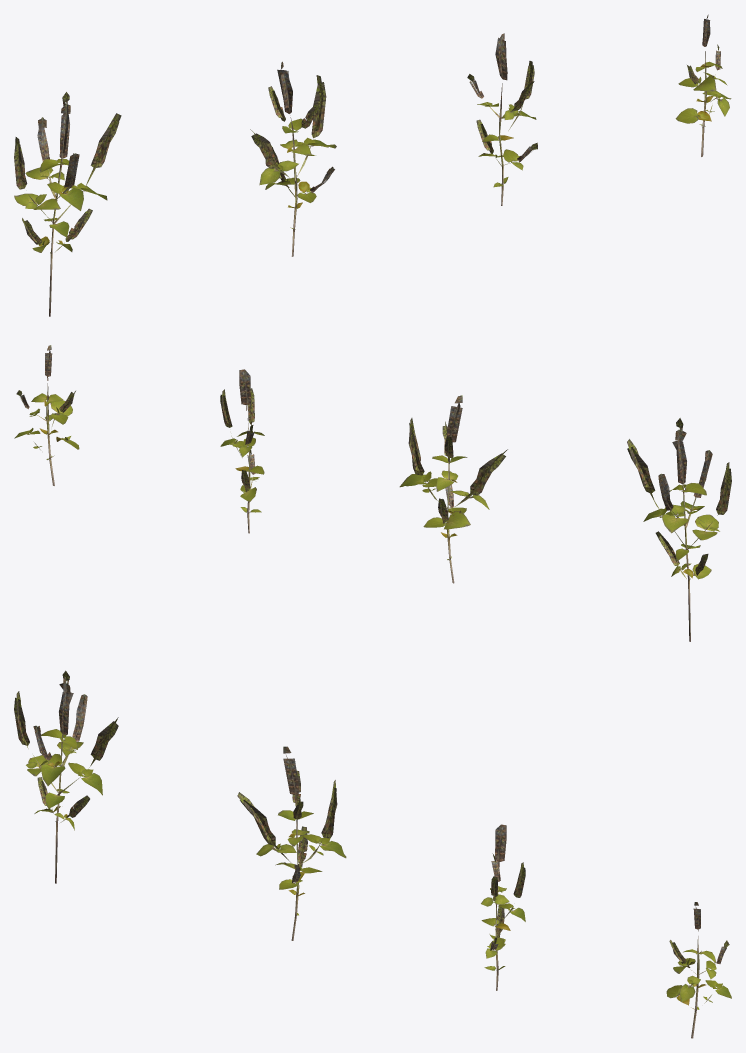
Rendered from veg_veg_mangrove_shrub_03.glb.
3 views of the same model, one above another, from view 1: azimuth 30°, elevation 25°; view 2: azimuth 150°, elevation 25°; view 3: azimuth 330°, elevation 25° (orthographic). The views are drawn at different scales.
Visible parts, largest first — view 1: veg_mangrove_shrub_03; view 2: veg_mangrove_shrub_03; view 3: veg_mangrove_shrub_03.
Part boxes in pixels (x1,y1,x2,y2): veg_mangrove_shrub_03: (14,14,731,316); veg_mangrove_shrub_03: (14,345,731,641); veg_mangrove_shrub_03: (14,670,731,1038).
Bounding box in the file's own units: 3.28 × 0.967 × 0.3622.
Materials: 1 (1 with a texture image).
